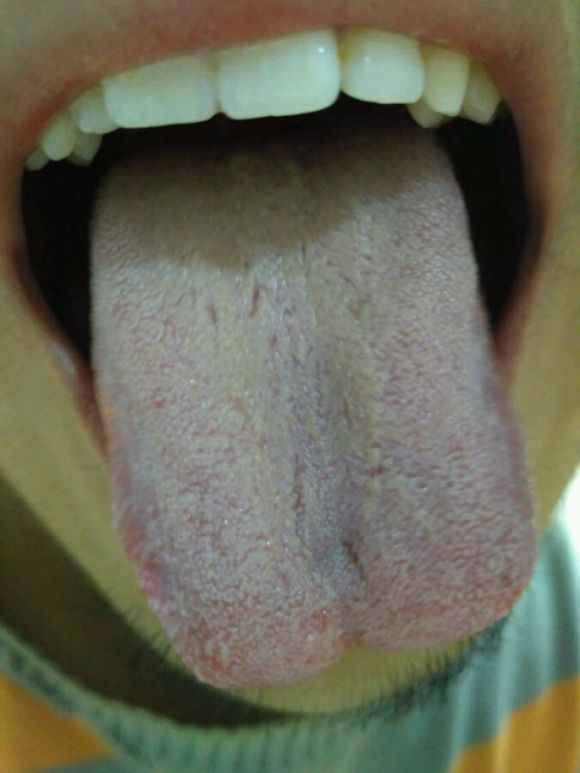huangtaishe: (89, 116, 537, 688)
